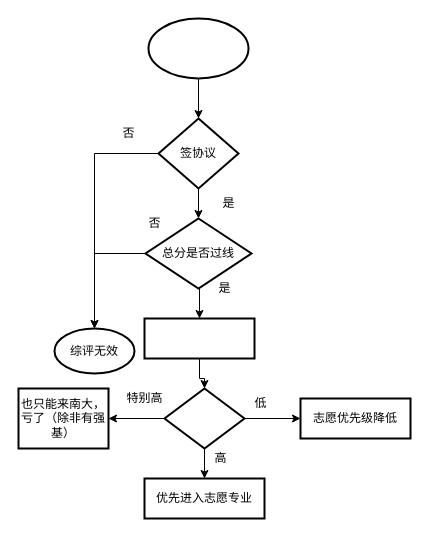
This 428x536 diagram has some shape labels left out. Each missing label, with the centre of its shape:
开始: the point at 198,48
被南大锁档: the point at 199,338
高考成绩: the point at 204,418
